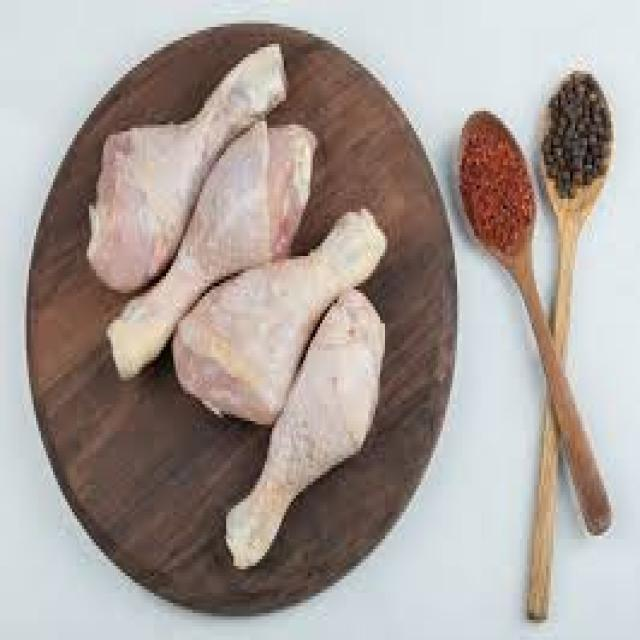leg: (212, 302, 398, 557), (181, 214, 385, 439), (92, 38, 275, 274), (113, 154, 312, 348)
